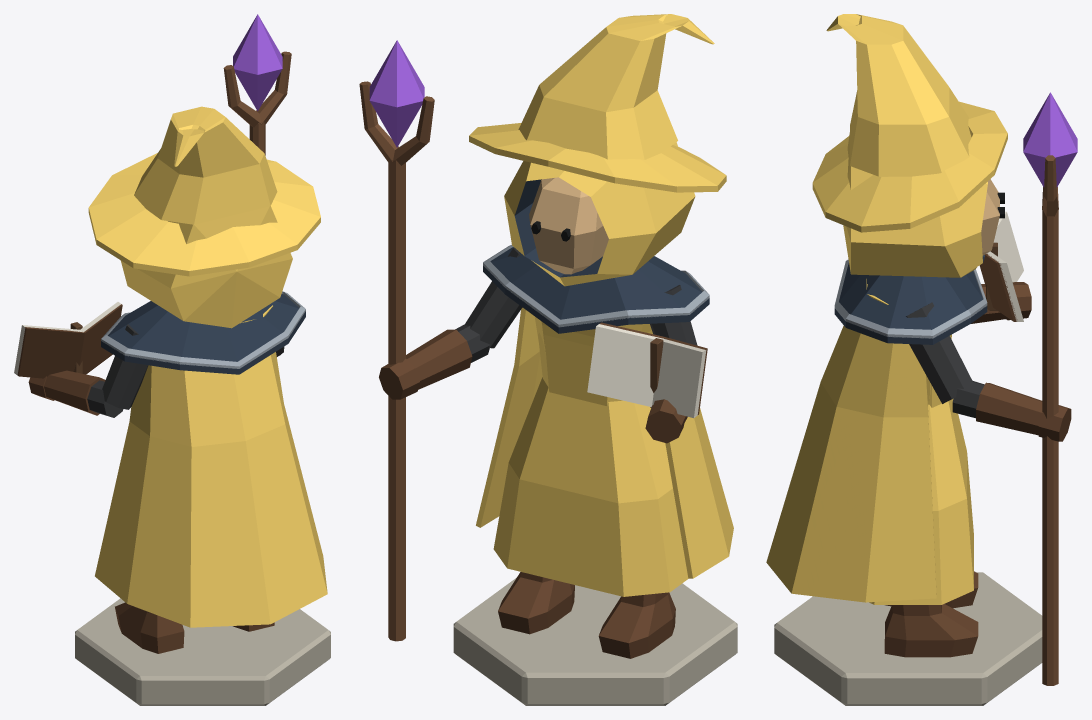
Rendered from human_mage_t6.glb.
3 renders of one model, left to right at view 1: azimuth 30°, elevation 25°; view 2: azimuth 150°, elevation 25°; view 3: azimuth 270°, elevation 25°, orthographic. The views are drawn at different scales.
Parts seen in each view (by area): view 1: Caster_Long_Back_Cape, Foundation_Hexagonal_Stone, Mage_One_Broad_Thin_Wizard_Brim, Mage_One_Left_Back_Bent_Wizard_Hat, Caster_Open_Low_Cowl, Plain_Caster_Shoulder_Mantle, Mage_Exactly_One_Violet_Diamond_Crystal, Mage_Spellbook_Left_Open_Leather_Cover, Boot_-1, Mage_One_Thin_Silver_Collar_Rim, left_upper_sleeve, left_bracer (+4 smaller); view 2: Caster_Continuous_Long_Robe, Foundation_Hexagonal_Stone, Mage_One_Left_Back_Bent_Wizard_Hat, Caster_Long_Back_Cape, Caster_Open_Low_Cowl, Plain_Caster_Shoulder_Mantle, Mage_One_Plain_Wooden_Staff_Shaft, Mage_One_Broad_Thin_Wizard_Brim, Angular_Face, Mage_Spellbook_Right_One_Open_Page_Block, Boot_-1, Boot_1 (+12 smaller); view 3: Caster_Long_Back_Cape, Foundation_Hexagonal_Stone, Mage_One_Left_Back_Bent_Wizard_Hat, Mage_One_Broad_Thin_Wizard_Brim, Caster_Open_Low_Cowl, Caster_Continuous_Long_Robe, Mage_One_Plain_Wooden_Staff_Shaft, Plain_Caster_Shoulder_Mantle, Boot_1, Mage_Exactly_One_Violet_Diamond_Crystal, right_upper_sleeve, right_bracer (+9 smaller).
Boxes of the visible parts, bbox=[...] form: Caster_Long_Back_Cape: bbox=[95, 352, 327, 627]; Foundation_Hexagonal_Stone: bbox=[75, 598, 330, 705]; Mage_One_Broad_Thin_Wizard_Brim: bbox=[88, 153, 320, 276]; Mage_One_Left_Back_Bent_Wizard_Hat: bbox=[134, 106, 277, 224]; Caster_Open_Low_Cowl: bbox=[120, 206, 292, 328]; Plain_Caster_Shoulder_Mantle: bbox=[101, 294, 305, 374]; Mage_Exactly_One_Violet_Diamond_Crystal: bbox=[233, 14, 282, 111]; Mage_Spellbook_Left_Open_Leather_Cover: bbox=[17, 327, 84, 378]; Boot_-1: bbox=[115, 602, 184, 653]; Mage_One_Thin_Silver_Collar_Rim: bbox=[101, 291, 305, 368]; left_upper_sleeve: bbox=[102, 324, 148, 409]; left_bracer: bbox=[44, 370, 105, 415]; Caster_Continuous_Long_Robe: bbox=[493, 316, 688, 596]; Foundation_Hexagonal_Stone: bbox=[453, 577, 737, 705]; Mage_One_Left_Back_Bent_Wizard_Hat: bbox=[518, 14, 714, 159]; Caster_Long_Back_Cape: bbox=[476, 307, 733, 578]; Caster_Open_Low_Cowl: bbox=[504, 142, 695, 286]; Plain_Caster_Shoulder_Mantle: bbox=[483, 247, 709, 333]; Mage_One_Plain_Wooden_Staff_Shaft: bbox=[388, 159, 405, 641]; Mage_One_Broad_Thin_Wizard_Brim: bbox=[469, 123, 726, 192]; Angular_Face: bbox=[529, 177, 608, 274]; Mage_Spellbook_Right_One_Open_Page_Block: bbox=[587, 324, 663, 406]; Boot_-1: bbox=[598, 592, 675, 658]; Boot_1: bbox=[498, 572, 574, 634]; Caster_Long_Back_Cape: bbox=[766, 325, 936, 602]; Foundation_Hexagonal_Stone: bbox=[774, 572, 1042, 705]; Mage_One_Left_Back_Bent_Wizard_Hat: bbox=[826, 14, 971, 176]; Mage_One_Broad_Thin_Wizard_Brim: bbox=[812, 101, 1007, 232]; Caster_Open_Low_Cowl: bbox=[843, 132, 987, 277]; Caster_Continuous_Long_Robe: bbox=[866, 279, 973, 604]; Mage_One_Plain_Wooden_Staff_Shaft: bbox=[1042, 209, 1058, 685]; Plain_Caster_Shoulder_Mantle: bbox=[834, 262, 987, 344]; Boot_1: bbox=[884, 604, 978, 657]; Mage_Exactly_One_Violet_Diamond_Crystal: bbox=[1023, 92, 1077, 187]; right_upper_sleeve: bbox=[906, 302, 972, 403]; right_bracer: bbox=[976, 382, 1042, 435].
Bounding box in the file's own units: 1.21 × 2.28 × 1.03.
